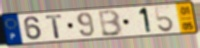1: (137, 7, 153, 35)
5: (154, 5, 176, 34)
6: (23, 16, 44, 42)
9: (75, 12, 96, 38)
B: (97, 8, 124, 37)
T: (44, 14, 64, 40)
